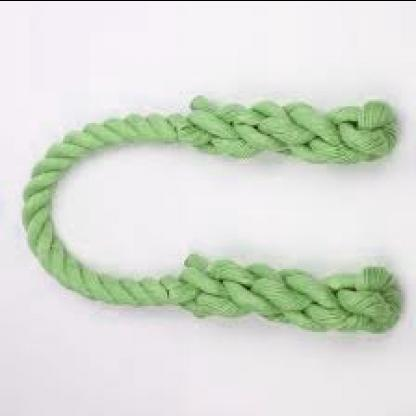Rope: (18, 93, 406, 337)
